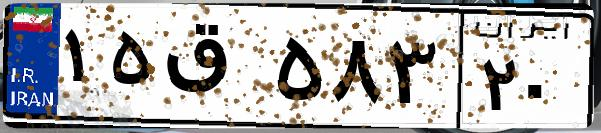0: (525, 38, 570, 115)
1: (57, 26, 110, 100)
2: (475, 38, 525, 113)
3: (385, 28, 445, 110)
5: (270, 28, 330, 110), (110, 28, 158, 98)
8: (330, 28, 385, 110)
ق: (158, 20, 270, 120)
